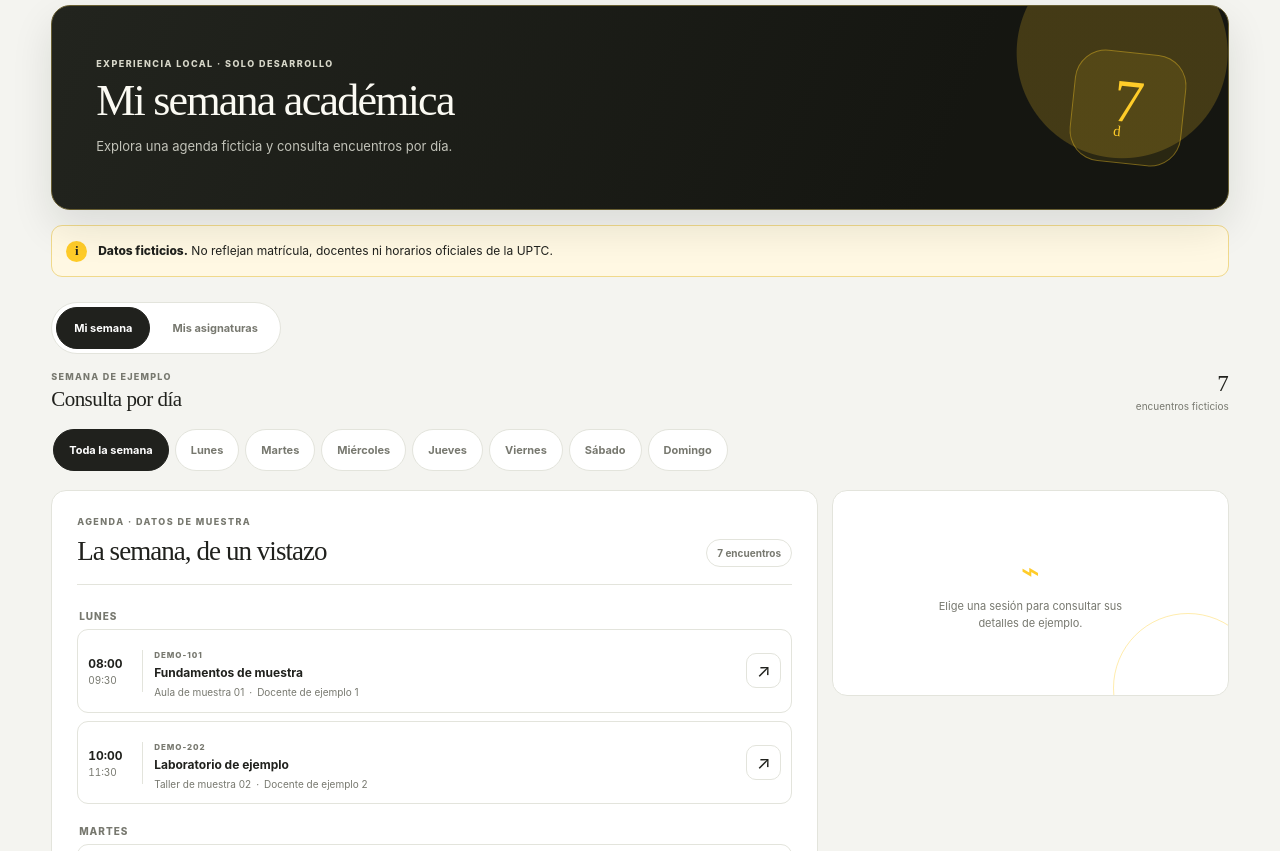
Test: MyAcademicWeekDemo › clears the selected subject when returning to the week view
Click the button "Mis asignaturas" at (215, 328), box [154,307,276,349]
(page scrolled)
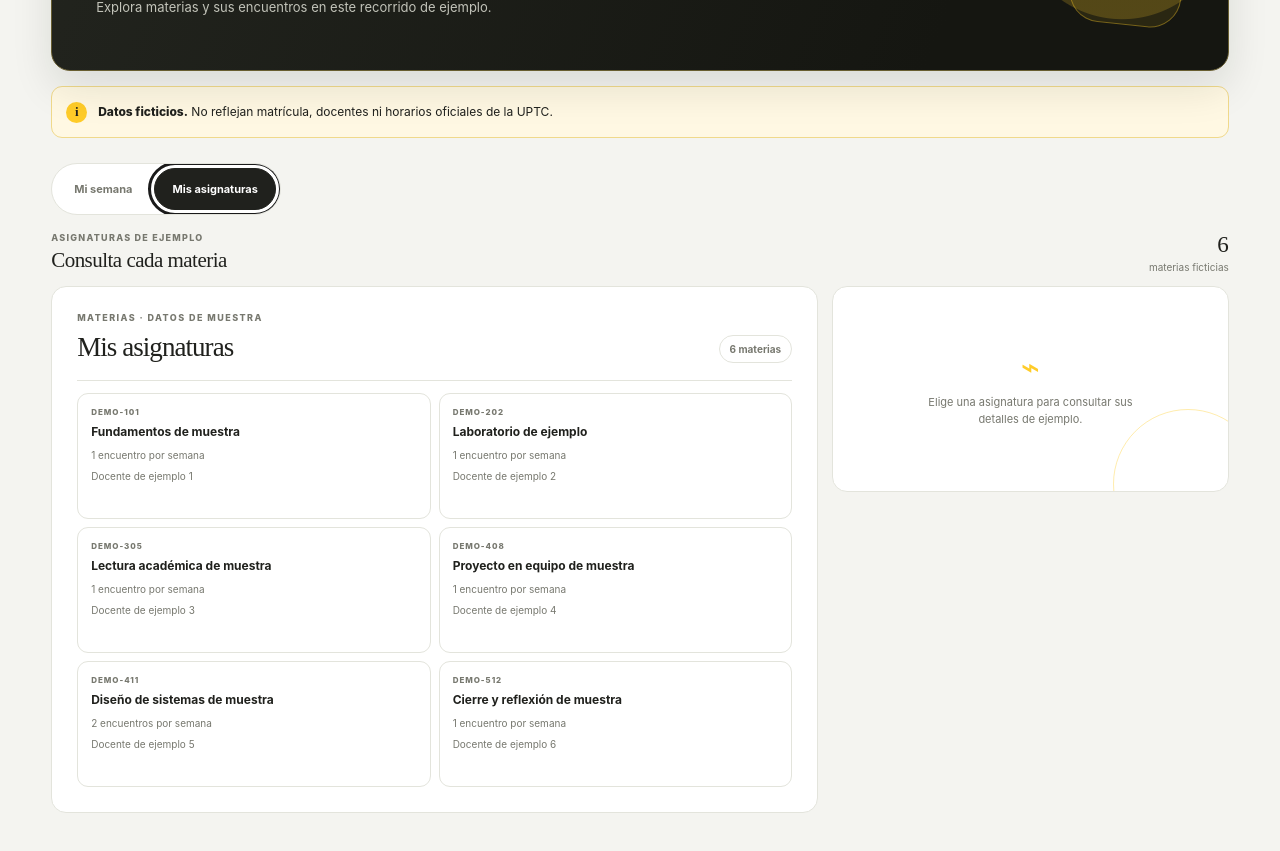
Click the button with aria-label "Ver asignatura: Diseño de sistemas de muestra" at (115, 680), box [77,661,431,787]
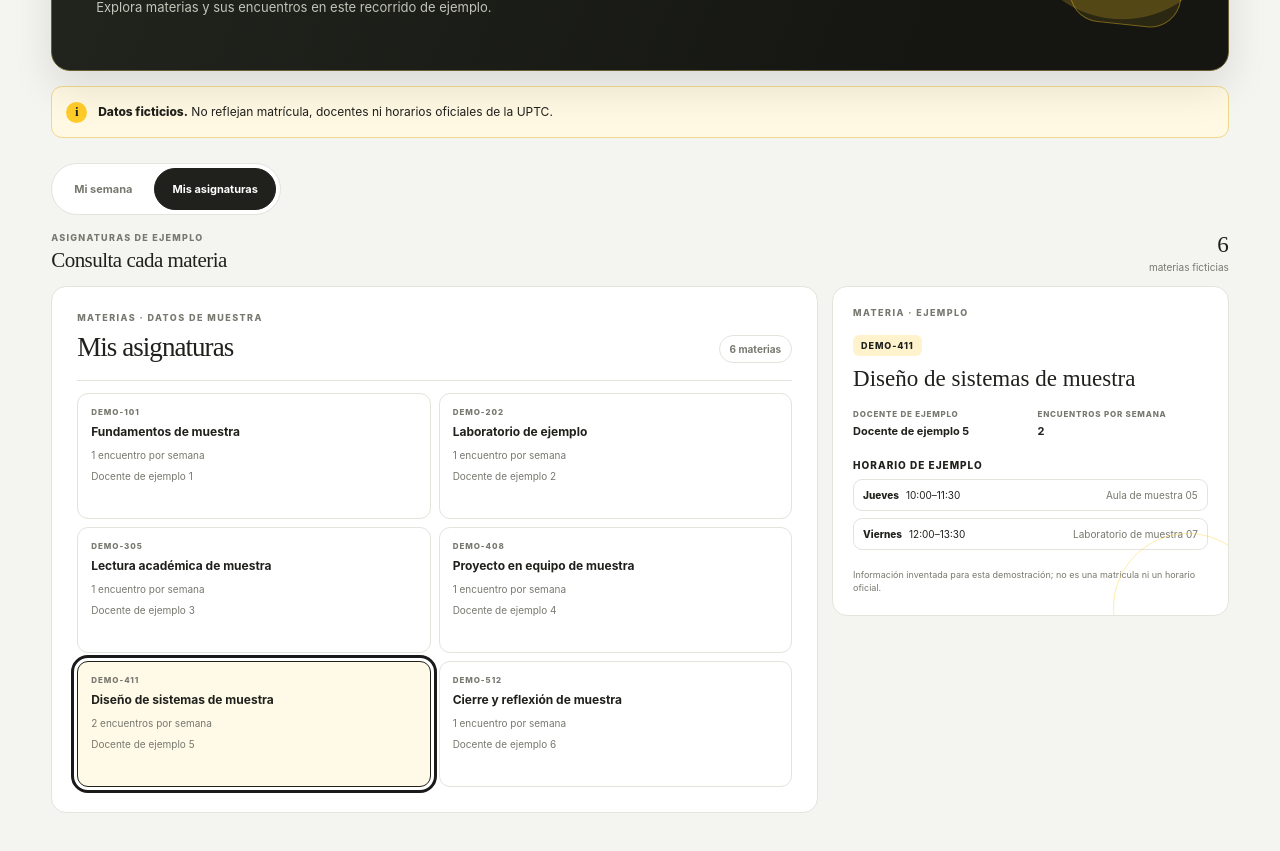
Expected: the element named "Detalle de la asignatura seleccionada" is shown, [832,286,1229,616]
Click the button "Mi semana" at (103, 189), box [56,168,150,210]
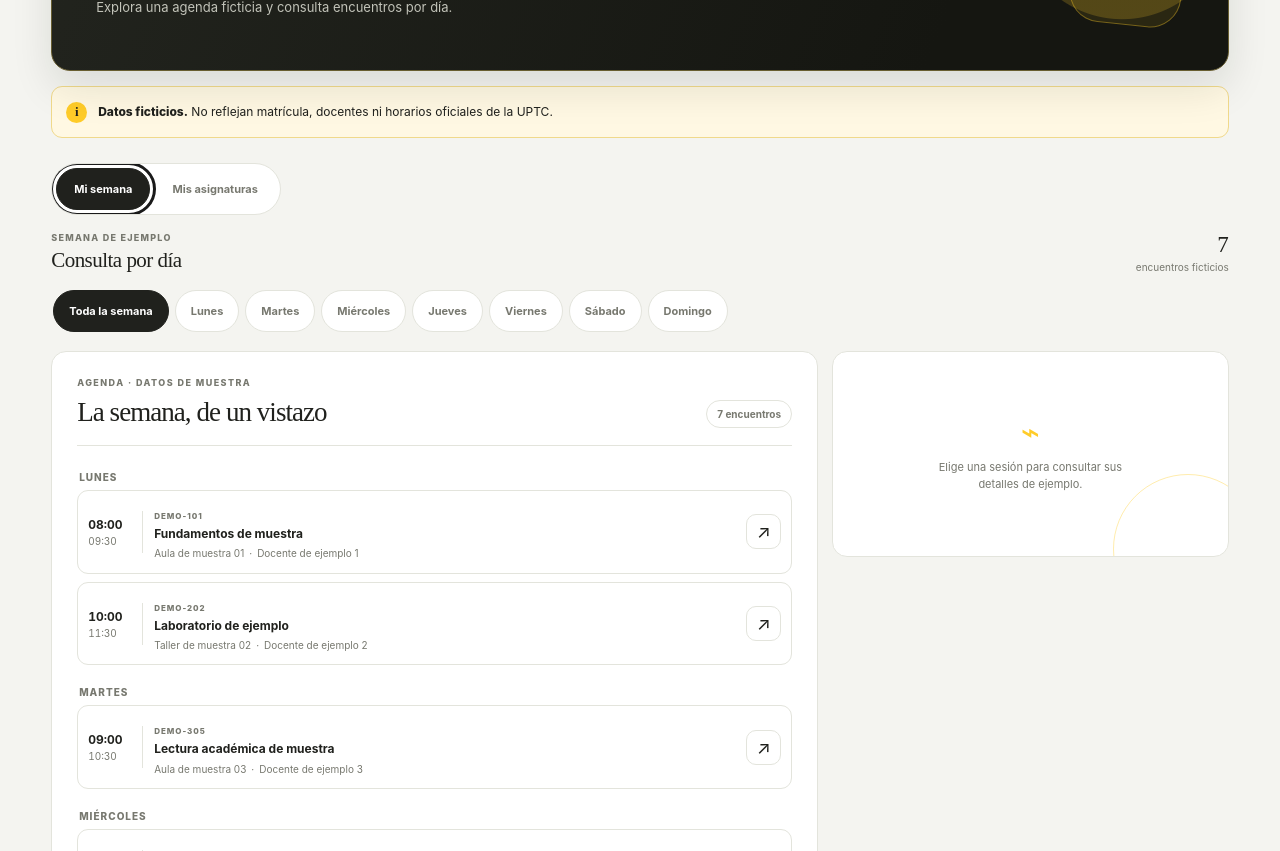
Expected: the text "Elige una sesión para consultar sus detalles de ejemplo." is shown, [939,460,1122,491]
